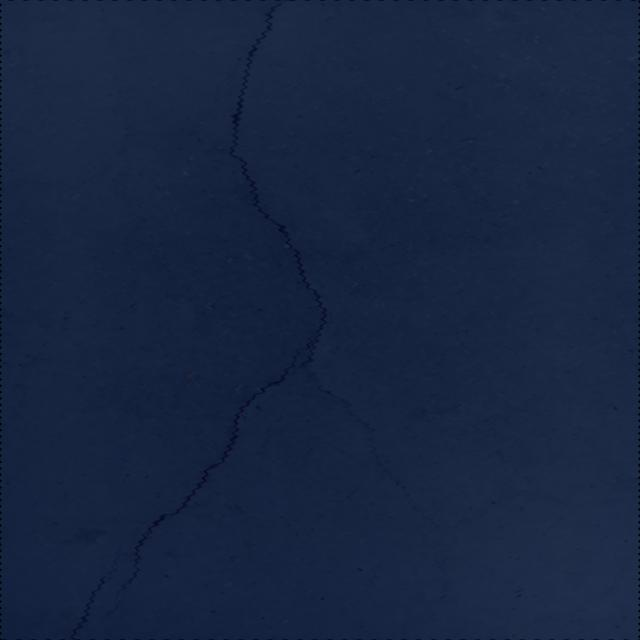crack: (96, 0, 573, 623), (69, 533, 132, 640), (218, 148, 236, 174)
